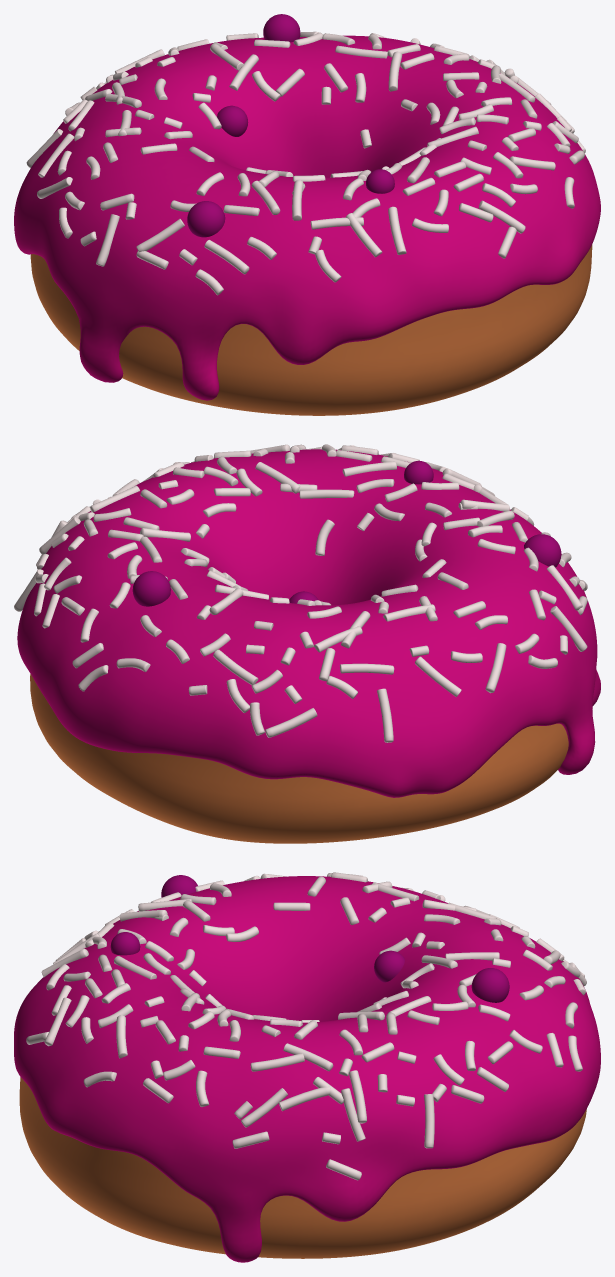
Rendered from donut1.1.glb.
3 renders of one model, top to bottom at view 1: azimuth 30°, elevation 25°; view 2: azimuth 150°, elevation 25°; view 3: azimuth 270°, elevation 25°, orthographic. The views are drawn at different scales.
Visible parts, largest first — view 1: Node2, Node1, Node164, Node166, Node165, Node163; view 2: Node2, Node1, Node166, Node164, Node163, Node91, Node134, Node17; view 3: Node2, Node1, Node166, Node165, Node164, Node163, Node38, Node29, Node139, Node30, Node8, Node73.
Part boxes in pixels (box(x1,y1,x2,y2)): Node2: box(14, 35, 600, 400); Node1: box(30, 244, 592, 415); Node164: box(187, 201, 225, 237); Node166: box(263, 14, 300, 42); Node165: box(217, 105, 248, 136); Node163: box(366, 169, 394, 193); Node2: box(17, 449, 600, 797); Node1: box(30, 674, 568, 843); Node166: box(132, 571, 170, 606); Node164: box(524, 534, 561, 567); Node163: box(404, 460, 433, 484); Node91: box(265, 708, 317, 737); Node134: box(377, 688, 393, 742); Node17: box(415, 656, 461, 696); Node2: box(14, 876, 600, 1262); Node1: box(19, 1077, 586, 1258); Node166: box(471, 968, 509, 1002); Node165: box(374, 950, 404, 982); Node164: box(161, 875, 197, 897); Node163: box(110, 932, 140, 955); Node38: box(424, 1094, 434, 1148); Node29: box(341, 1088, 365, 1141); Node139: box(241, 1088, 287, 1127); Node30: box(348, 1070, 366, 1123); Node8: box(279, 1086, 330, 1111); Node73: box(250, 1053, 304, 1071).
Size of the model in its own units: 0.0995 by 0.0438 by 0.0999.
